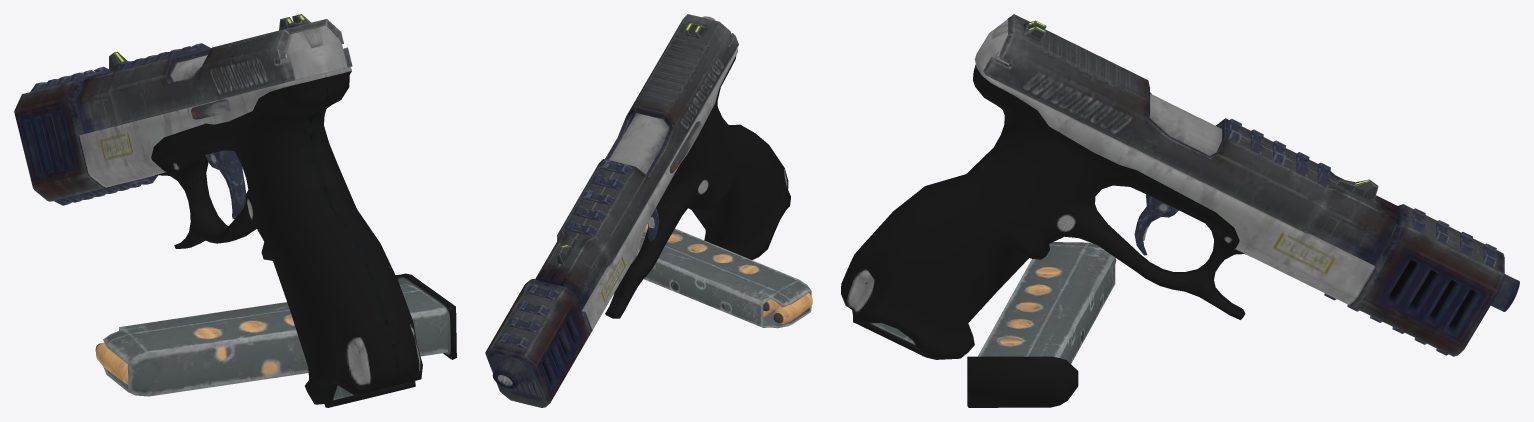
File: pistol.glb
3 views of the same model, side by side, from view 1: azimuth 30°, elevation 25°; view 2: azimuth 150°, elevation 25°; view 3: azimuth 270°, elevation 25° (orthographic). The views are drawn at different scales.
Parts seen in each view (by area): view 1: Frame_low_GunGs_0, Clip_low_GunGs_0, Slide_low_GunGs_0, Trigger_low_GunGs_0, Slide Stop_low_GunGs_0, Ejector_low_GunGs_0; view 2: Frame_low_GunGs_0, Slide_low_GunGs_0, Clip_low_GunGs_0, Ejector_low_GunGs_0, Slide Stop_low_GunGs_0; view 3: Frame_low_GunGs_0, Slide_low_GunGs_0, Clip_low_GunGs_0, Ejector_low_GunGs_0, Trigger_low_GunGs_0.
Part boxes in pixels (left/top/right/bottom): Frame_low_GunGs_0: left=14, top=25, right=422, bottom=407; Clip_low_GunGs_0: left=95, top=273, right=456, bottom=396; Slide_low_GunGs_0: left=75, top=14, right=352, bottom=133; Trigger_low_GunGs_0: left=205, top=150, right=246, bottom=219; Slide Stop_low_GunGs_0: left=191, top=99, right=230, bottom=119; Ejector_low_GunGs_0: left=171, top=55, right=207, bottom=81; Frame_low_GunGs_0: left=485, top=15, right=790, bottom=407; Slide_low_GunGs_0: left=535, top=14, right=738, bottom=309; Clip_low_GunGs_0: left=631, top=223, right=812, bottom=328; Ejector_low_GunGs_0: left=609, top=113, right=668, bottom=174; Slide Stop_low_GunGs_0: left=669, top=121, right=701, bottom=173; Frame_low_GunGs_0: left=841, top=19, right=1519, bottom=359; Slide_low_GunGs_0: left=983, top=14, right=1398, bottom=265; Clip_low_GunGs_0: left=967, top=242, right=1116, bottom=407; Ejector_low_GunGs_0: left=1149, top=93, right=1221, bottom=155; Trigger_low_GunGs_0: left=1134, top=194, right=1178, bottom=255.
Bounding box in the file's own units: 105 × 120 × 227.
1 material, 1 textured.
